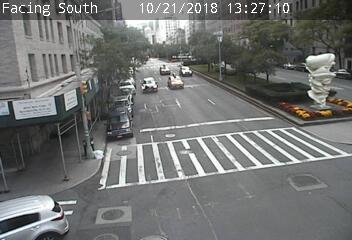car: (142, 77, 156, 93), (168, 73, 182, 89), (179, 66, 191, 77), (160, 65, 169, 75)
